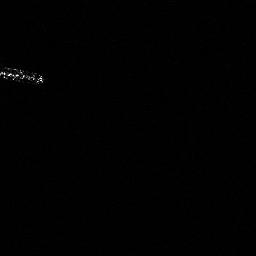ship: (1, 66, 44, 85)
